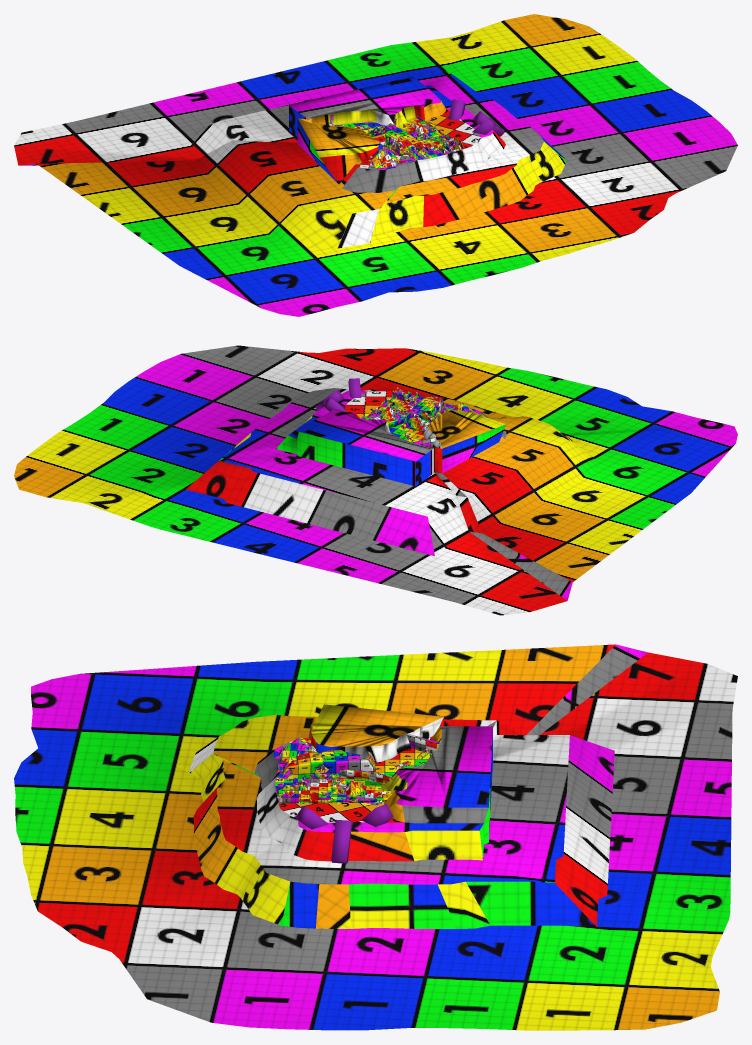
File: ColisionesNivel1.obj
3 renders of one model, top to bottom at view 1: azimuth 30°, elevation 25°; view 2: azimuth 150°, elevation 25°; view 3: azimuth 270°, elevation 25°, orthographic. The views are drawn at different scales.
Parts seen in each view (by area): view 1: suelo_exterior, suelo_t_1, Box108; view 2: suelo_exterior, suelo_t_1, suelo_t_5, Box108; view 3: suelo_exterior, Box108, suelo_t_1, suelo_t_5, Box226, suelo_t_3, suelo_t_2.
Part boxes in pixels (<box>): suelo_exterior: <box>14,14,737,316</box>; suelo_t_1: <box>426,108,480,149</box>; Box108: <box>385,123,425,155</box>; suelo_exterior: <box>14,345,737,615</box>; suelo_t_1: <box>343,391,391,418</box>; suelo_t_5: <box>366,401,434,474</box>; Box108: <box>402,394,444,428</box>; suelo_exterior: <box>14,644,737,1030</box>; Box108: <box>286,750,376,780</box>; suelo_t_1: <box>278,802,403,822</box>; suelo_t_5: <box>337,736,433,796</box>; Box226: <box>331,820,352,863</box>; suelo_t_3: <box>275,777,345,804</box>; suelo_t_2: <box>328,781,392,805</box>.
Size of the model in its own units: 3826 by 348 by 3081.
